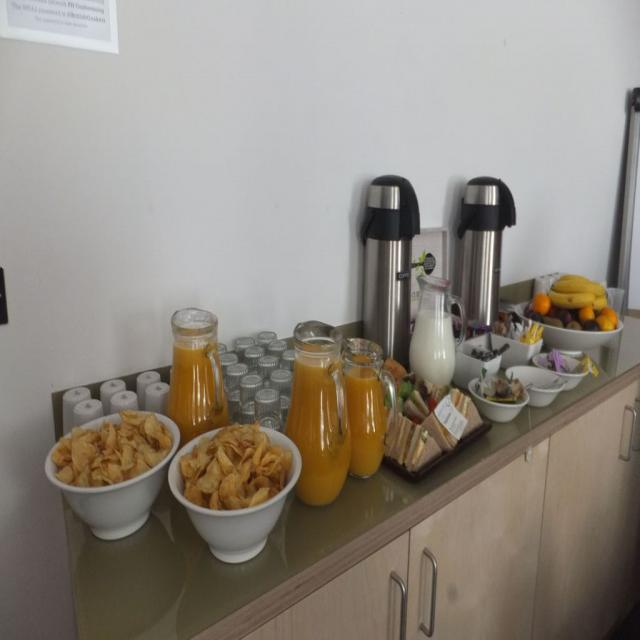Juice: (286, 328, 352, 523), (163, 344, 229, 446), (343, 358, 389, 476), (410, 307, 458, 391)
